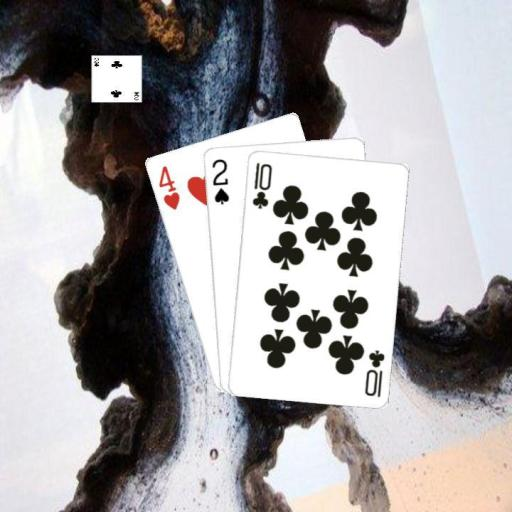10C: (361, 347, 386, 399), (248, 159, 273, 210)
2S: (209, 155, 231, 206)
4H: (155, 162, 182, 211)
